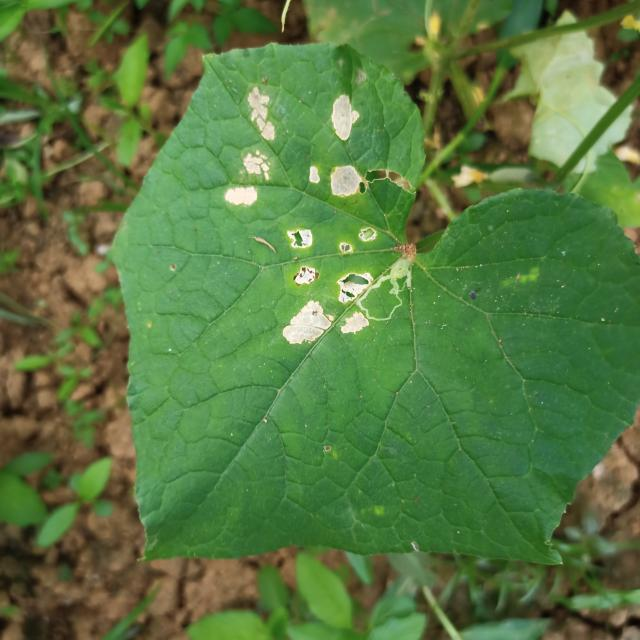disease_cucumber: (287, 91, 373, 344), (225, 88, 273, 204)
